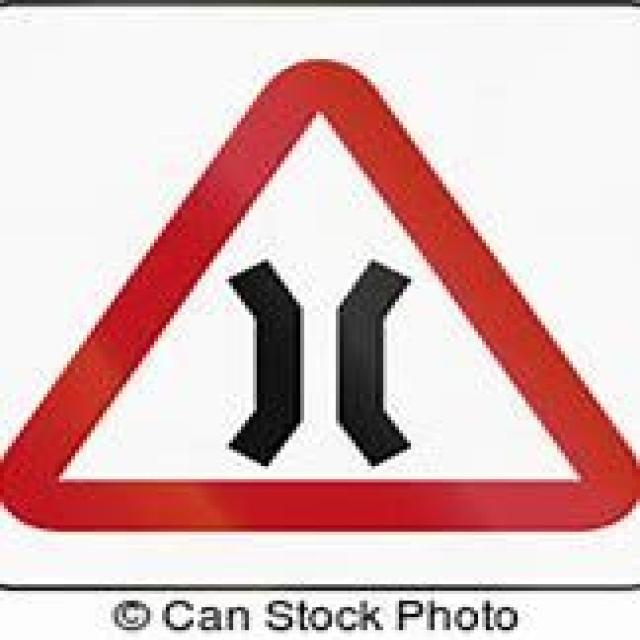narrow bridge ahead: (21, 58, 619, 526)
